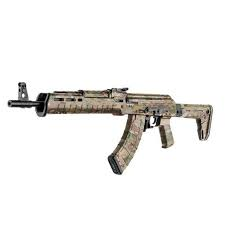gun: (6, 79, 216, 178)
